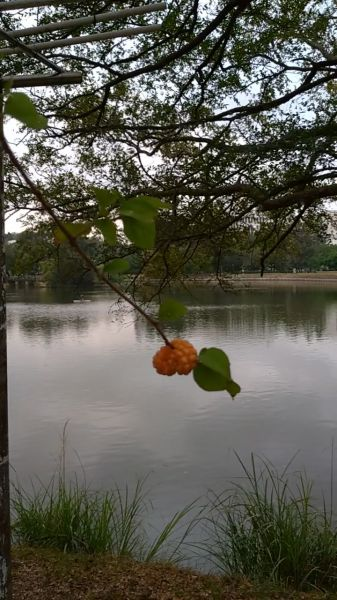eggs: (148, 335, 202, 379)
